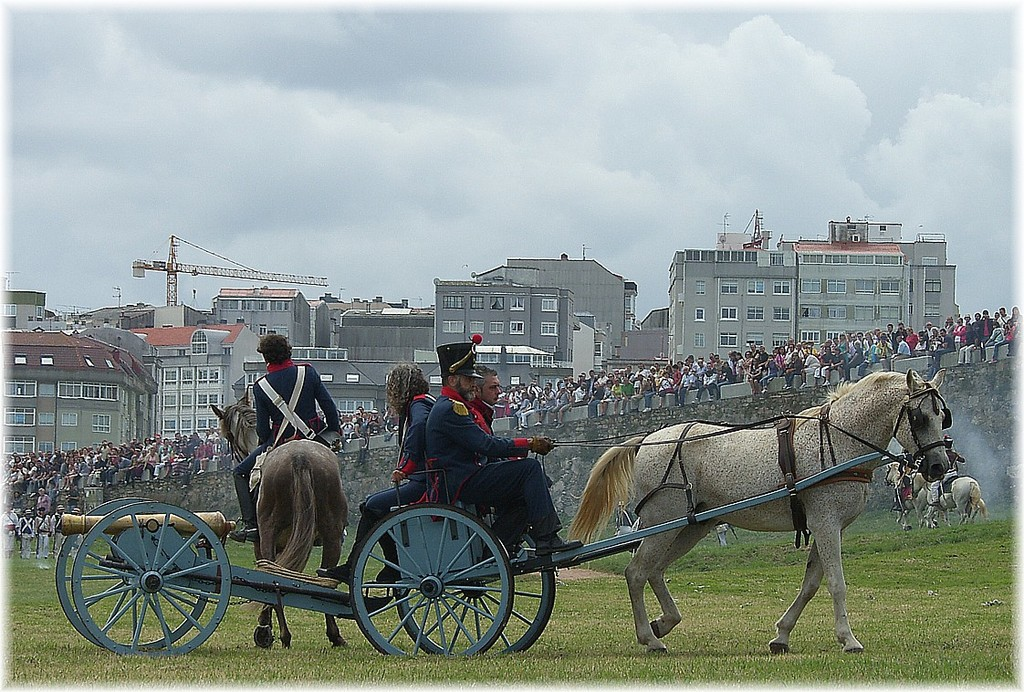horse: (564, 366, 954, 657)
